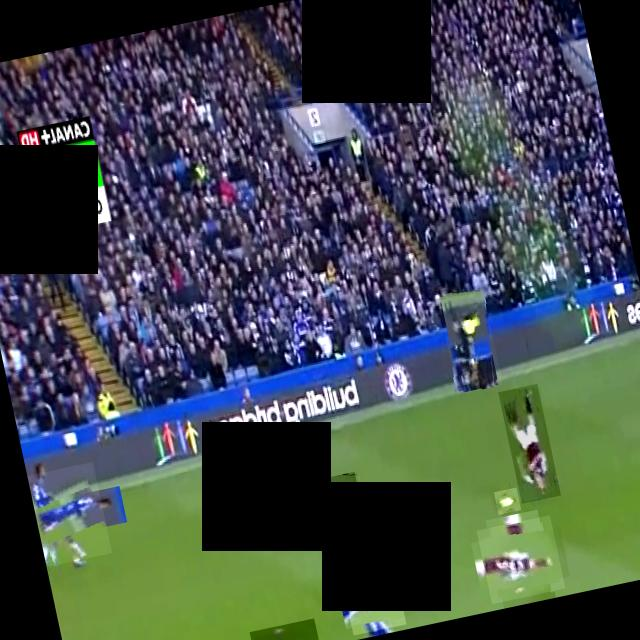ball: (492, 486, 520, 514)
referee: (435, 285, 501, 393), (248, 617, 319, 640)
soccer-player: (26, 460, 110, 566), (475, 514, 564, 603), (496, 382, 560, 502), (321, 470, 377, 590), (341, 570, 405, 634)
